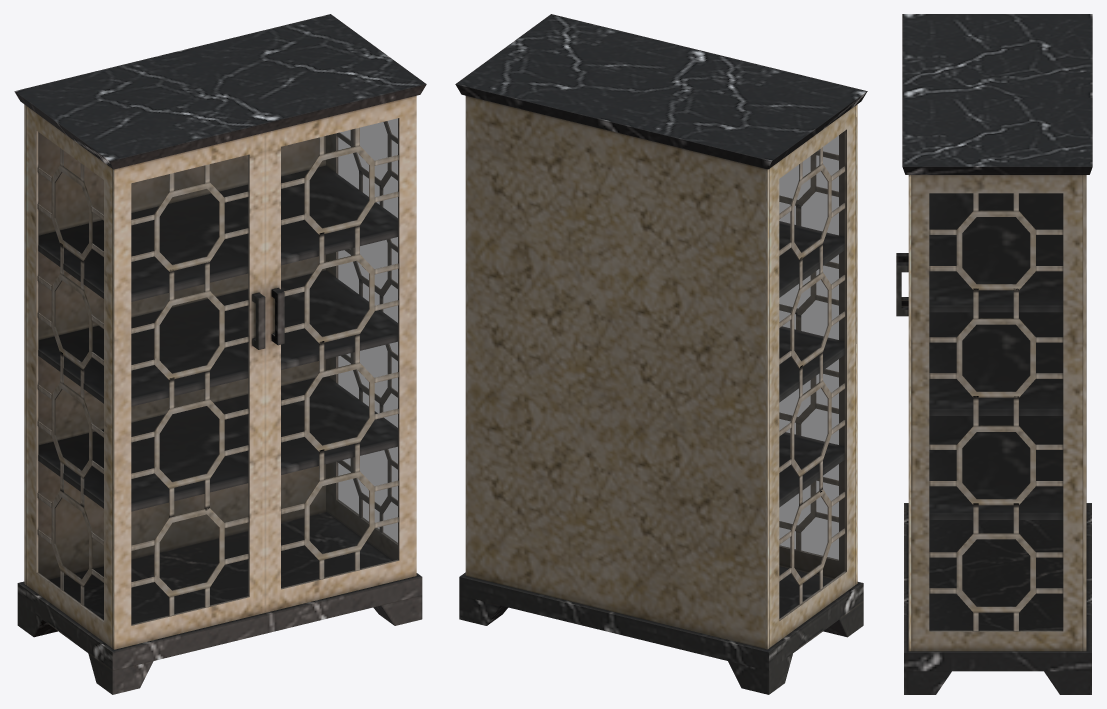
Rendered from mason_curio_ marblecabinet.fbx.
3 renders of one model, left to right at view 1: azimuth 30°, elevation 25°; view 2: azimuth 150°, elevation 25°; view 3: azimuth 270°, elevation 25°, orthographic.
Visible parts, largest first — view 1: Mason Curio cabinet; view 2: Mason Curio cabinet; view 3: Mason Curio cabinet.
Boxes of the visible parts, <box> form: Mason Curio cabinet: <box>14,14,426,694</box>; Mason Curio cabinet: <box>455,14,867,694</box>; Mason Curio cabinet: <box>896,14,1092,694</box>.
Size of the model in its own units: 1.22 by 1.97 by 0.6612.
